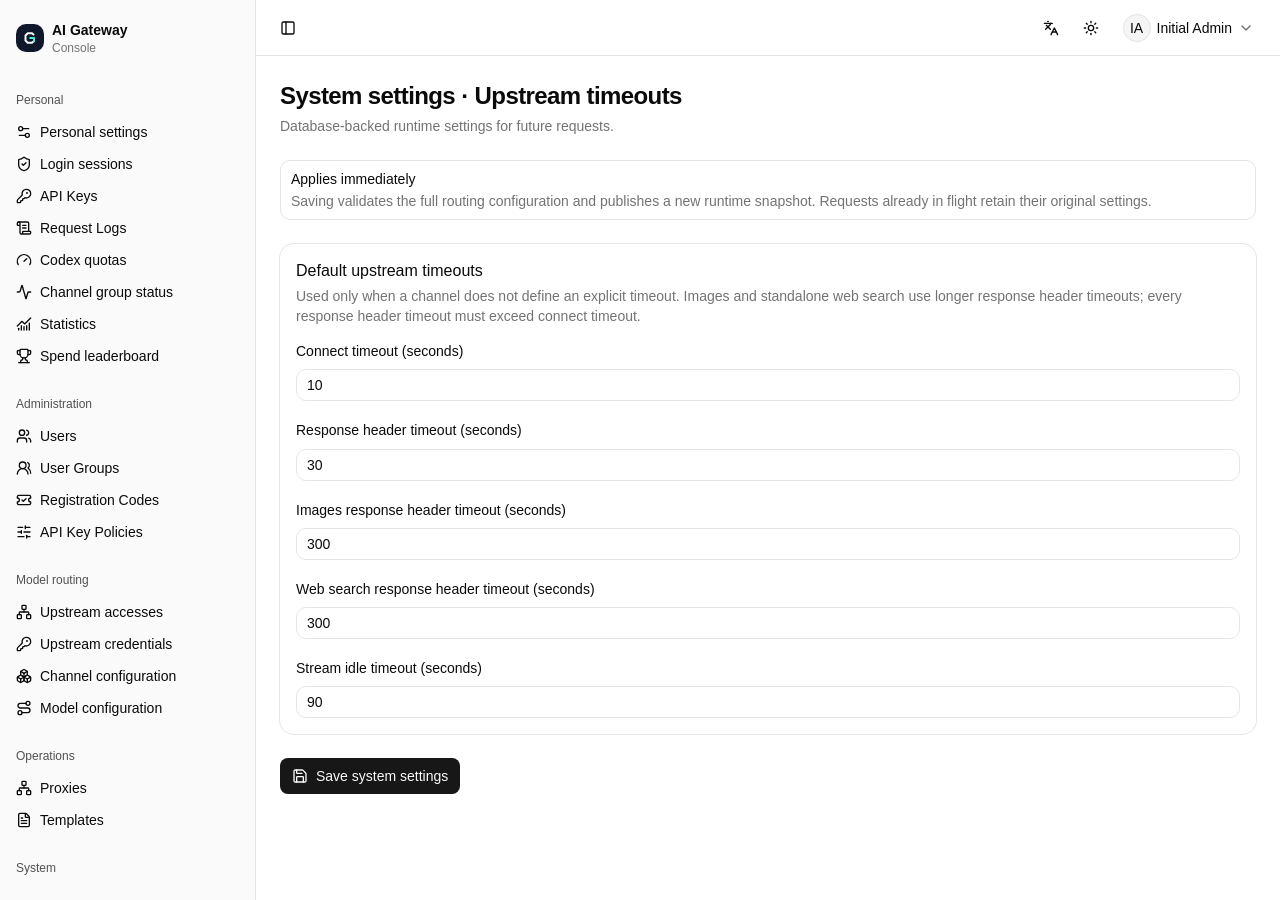
Scenario: SystemPage › requires the response-header timeout to exceed the connect timeout
Step 1. Replace the text in the number field labelled "Response header timeout (seconds)" with "10" → (768, 464), box x1=296 y1=448 x2=1240 y2=480
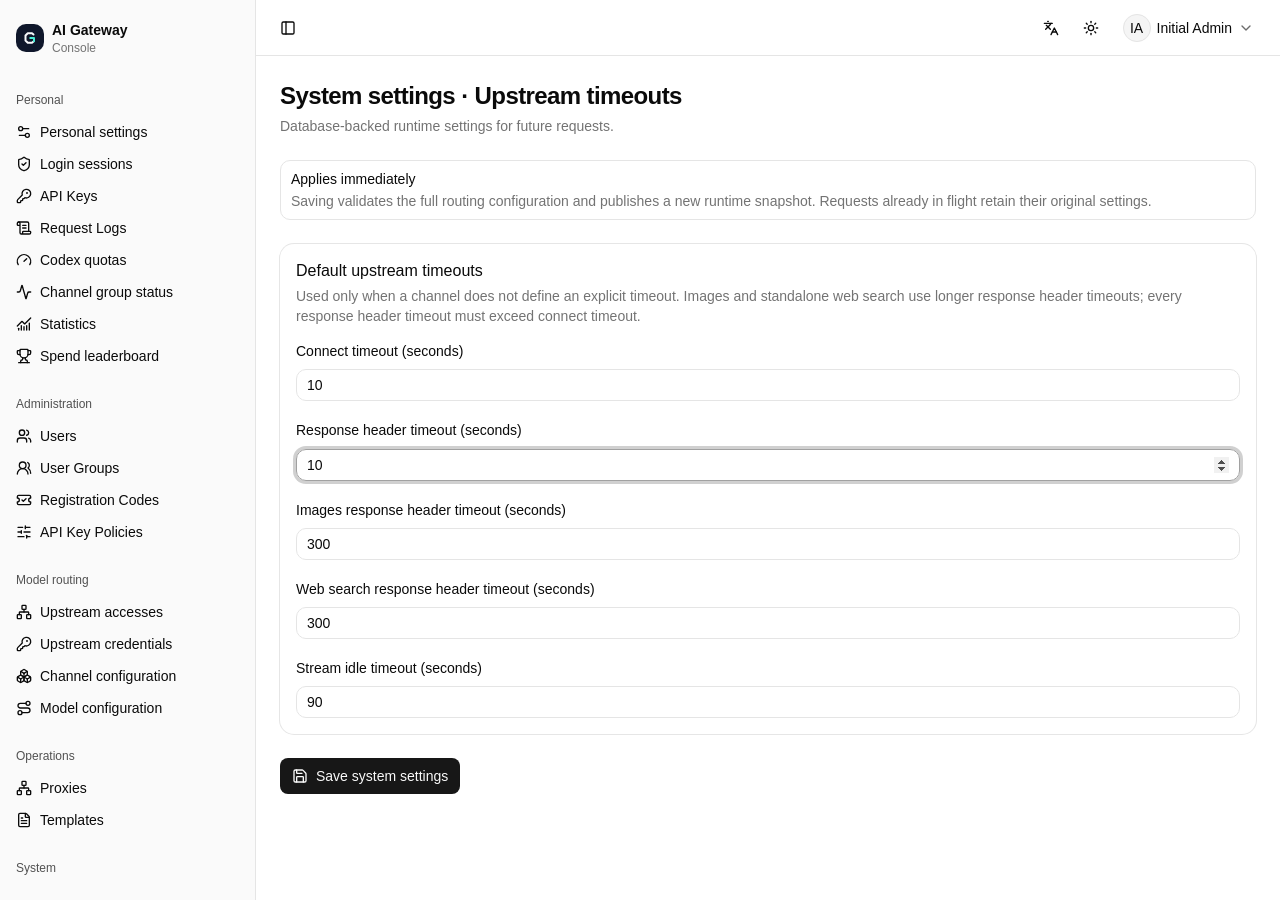
Step 2. Click the button "Save system settings" → (370, 776), box x1=280 y1=758 x2=460 y2=794
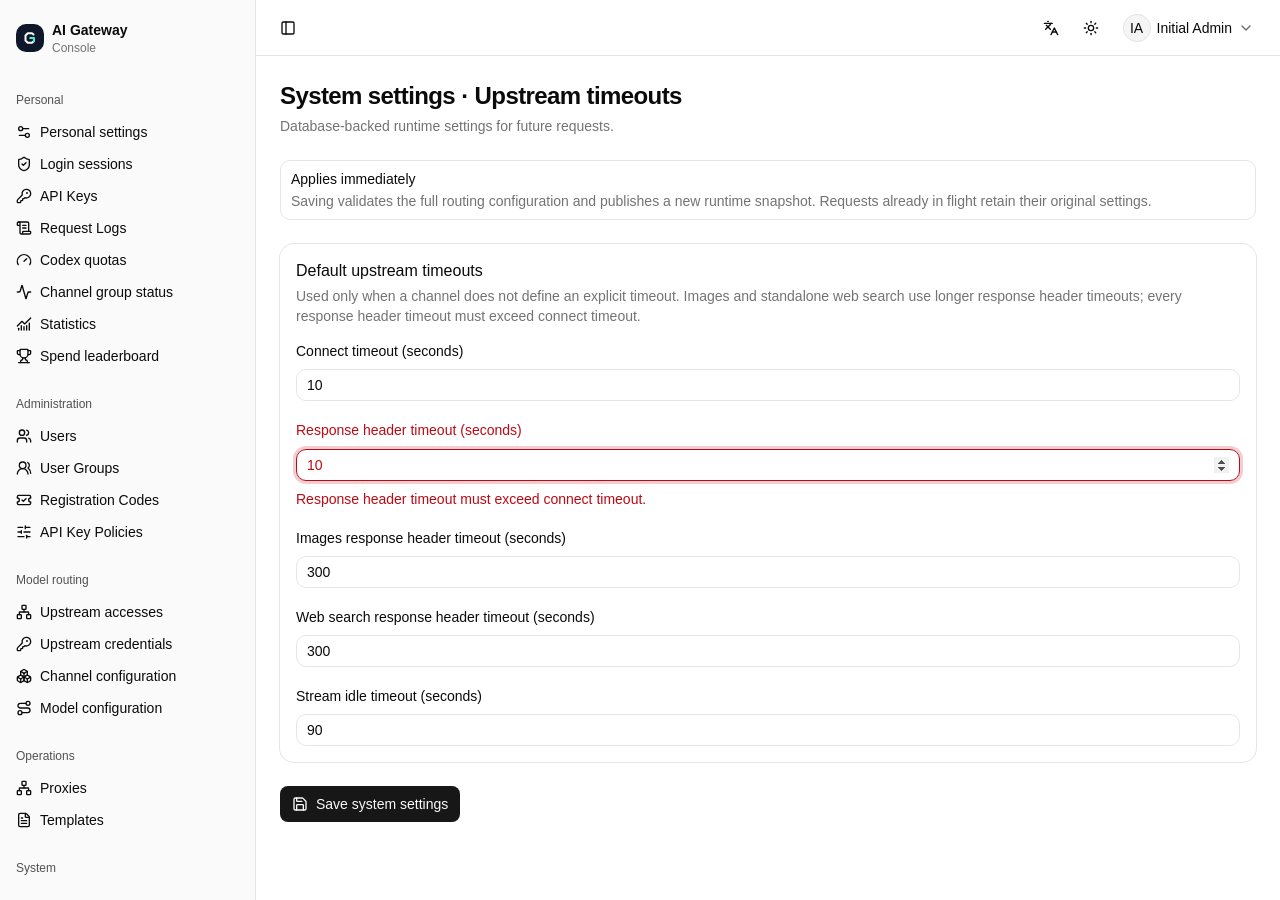
Expected: the text "Response header timeout must exceed connect timeout." is shown, x1=296 y1=490 x2=646 y2=506
